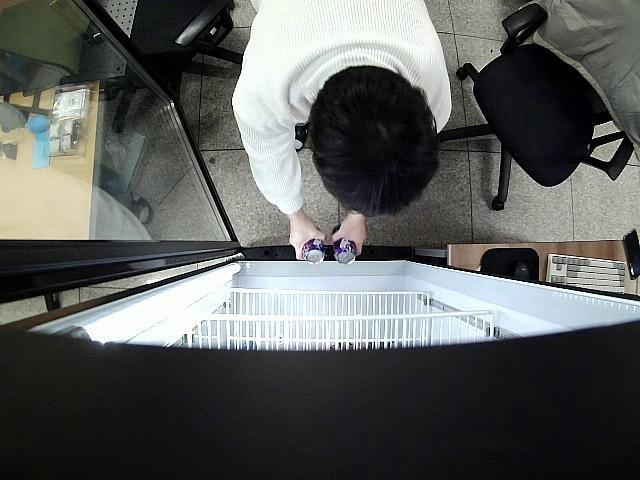14_welchsGrape: (332, 238, 358, 266), (302, 237, 327, 264)
